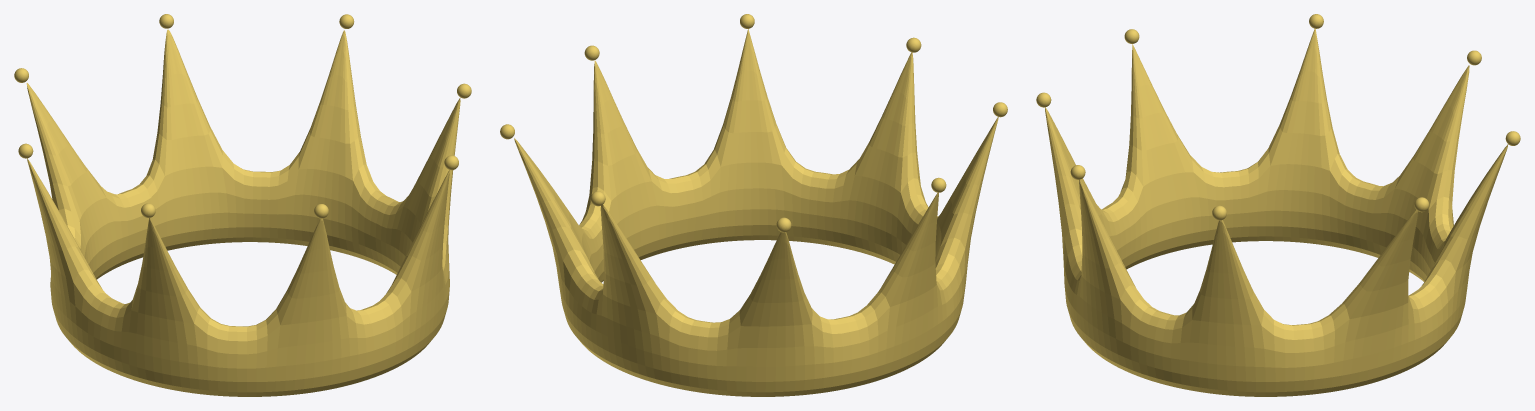
The model's file is oukan1.fbx.
3 views of the same model, side by side, from view 1: azimuth 30°, elevation 25°; view 2: azimuth 150°, elevation 25°; view 3: azimuth 270°, elevation 25° (orthographic).
Parts seen in each view (by area): view 1: Torus; view 2: Torus; view 3: Torus.
Boxes of the visible parts, x1,y1,x2,y2 form: Torus: [14, 14, 471, 396]; Torus: [500, 14, 1007, 396]; Torus: [1036, 14, 1520, 396].
Size of the model in its own units: 230 by 112 by 238.
